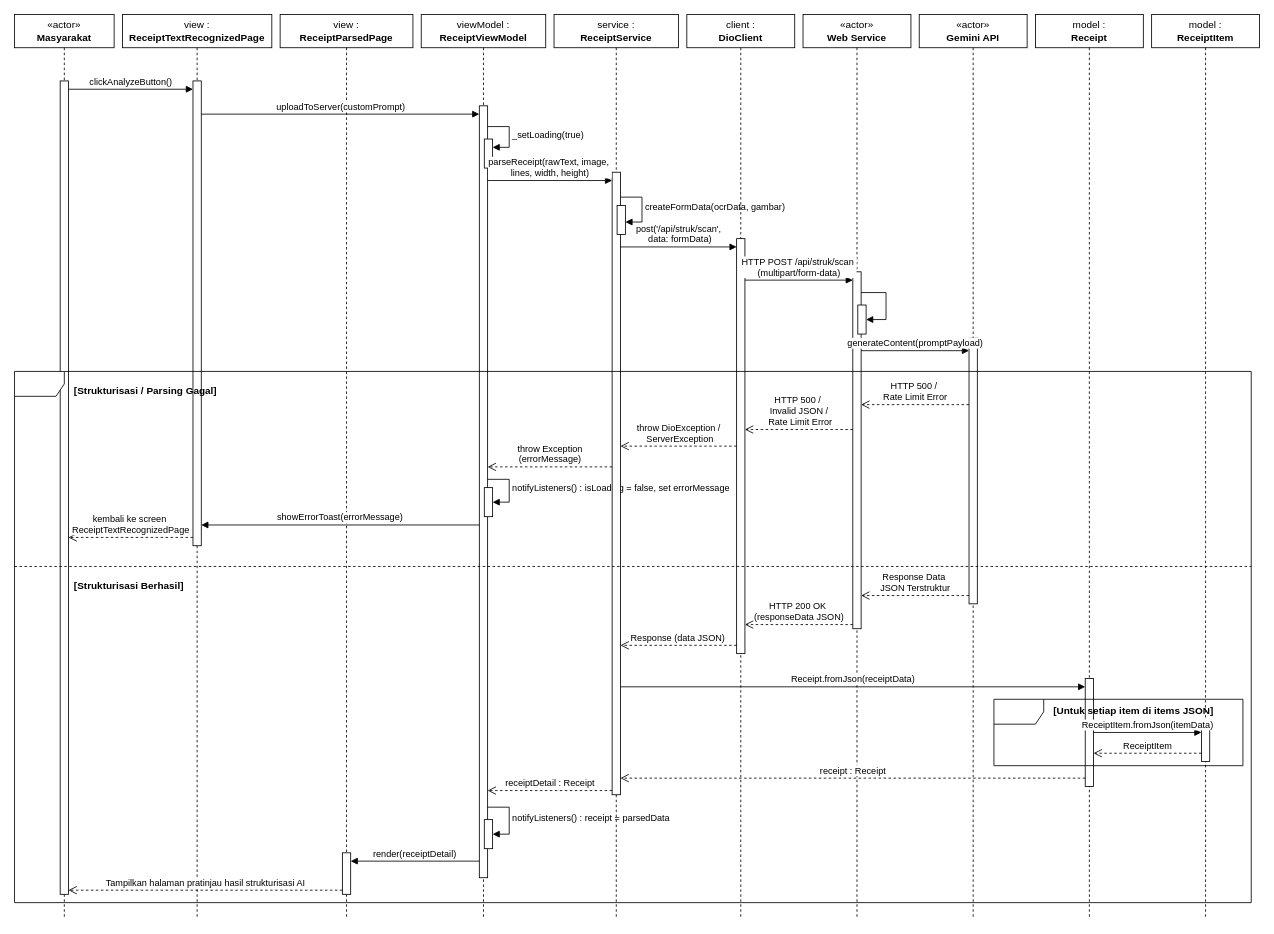
Image size: 1274x934. Some labels were removed from this diagram. Here are the shapes that lost their labels. From the top down, the box of each, then its label:
(14, 371, 1251, 903): Alt
(993, 698, 1243, 766): Loop
